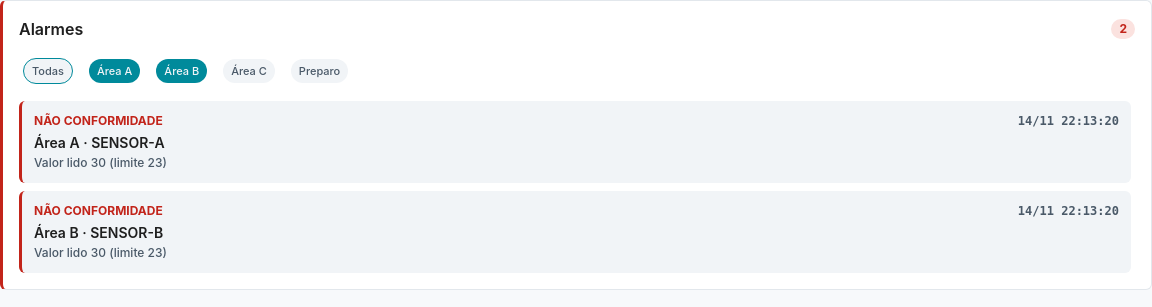
Test case: AlarmsWidget › clicar chip ativo remove os alarmes daquela área
Click the button "Área A": coordinates (115, 71) [85,53,144,89]
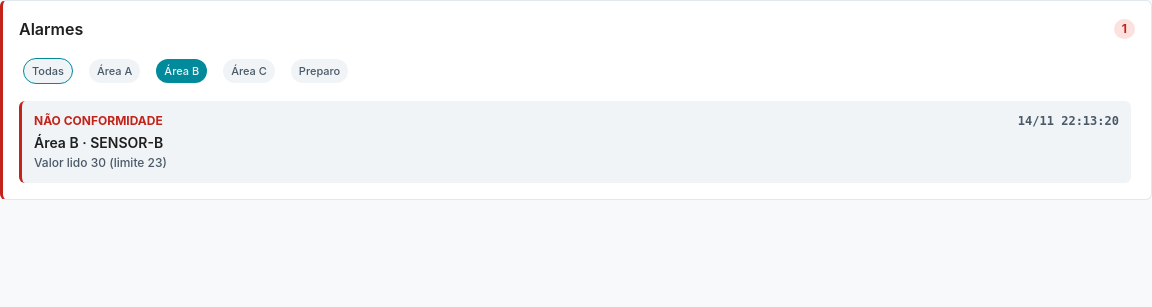
Expected: the text "Área B · SENSOR-B" is shown, [34,134,163,151]
Result: the text "SENSOR-A" is gone
